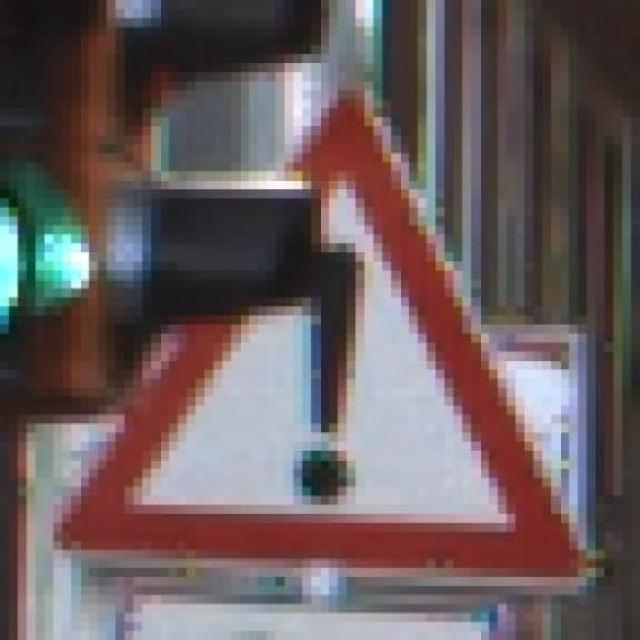Attention Please-: (49, 40, 583, 617)
